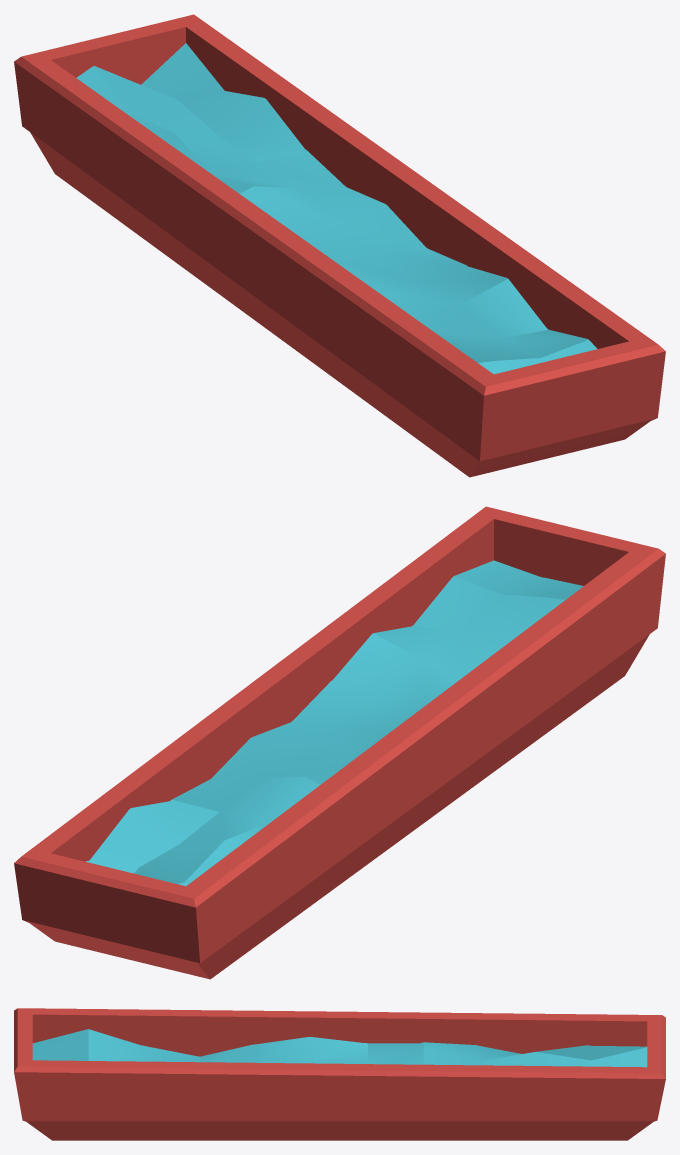
File: waterdish_a.gltf
3 renders of one model, top to bottom at view 1: azimuth 30°, elevation 25°; view 2: azimuth 150°, elevation 25°; view 3: azimuth 270°, elevation 25°, orthographic. The views are drawn at different scales.
Parts seen in each view (by area): view 1: waterdish_a001; view 2: waterdish_a001; view 3: waterdish_a001.
Part boxes in pixels (bbox=[...]): waterdish_a001: bbox=[14, 14, 665, 477]; waterdish_a001: bbox=[14, 506, 665, 979]; waterdish_a001: bbox=[14, 1008, 665, 1140].
Bounding box in the file's own units: 0.3902 × 0.2277 × 1.75.
1 material, 1 textured.
